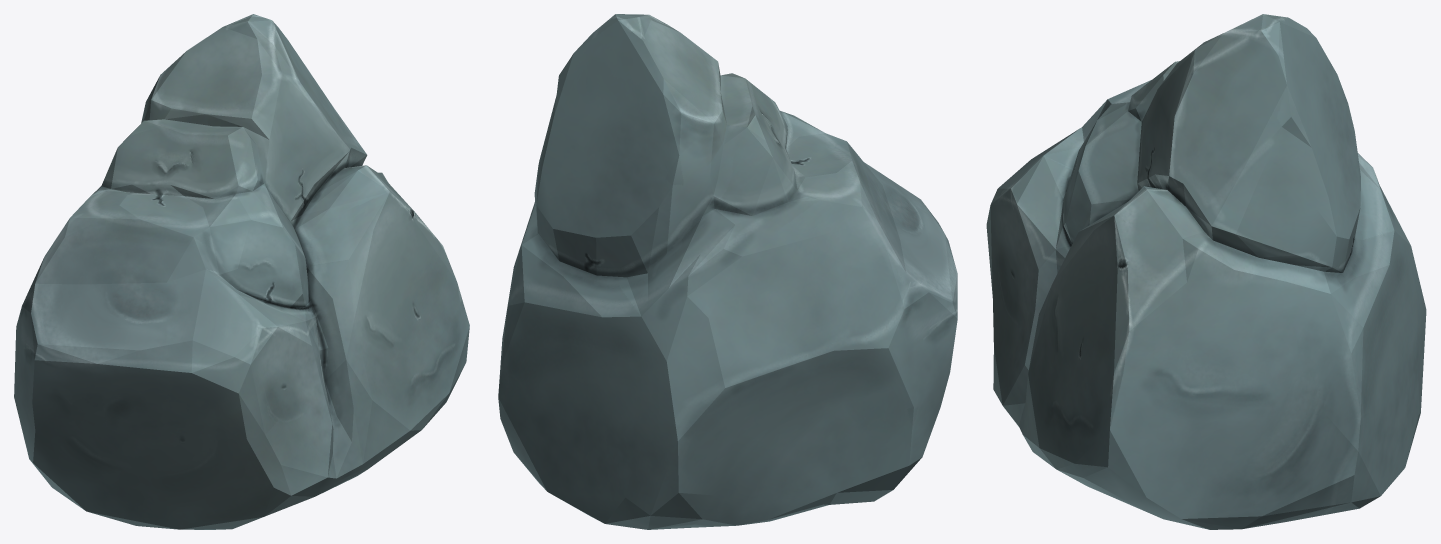
The model's file is rock1.glb.
3 views of the same model, side by side, from view 1: azimuth 30°, elevation 25°; view 2: azimuth 150°, elevation 25°; view 3: azimuth 270°, elevation 25° (orthographic). The views are drawn at different scales.
Visible parts, largest first — view 1: Rock_LP_0; view 2: Rock_LP_0; view 3: Rock_LP_0.
Part boxes in pixels (bbox=[...]): Rock_LP_0: bbox=[14, 14, 469, 529]; Rock_LP_0: bbox=[498, 14, 957, 529]; Rock_LP_0: bbox=[986, 14, 1426, 529].
Bounding box in the file's own units: 1.99 × 1.99 × 1.64.
1 material, 1 textured.
